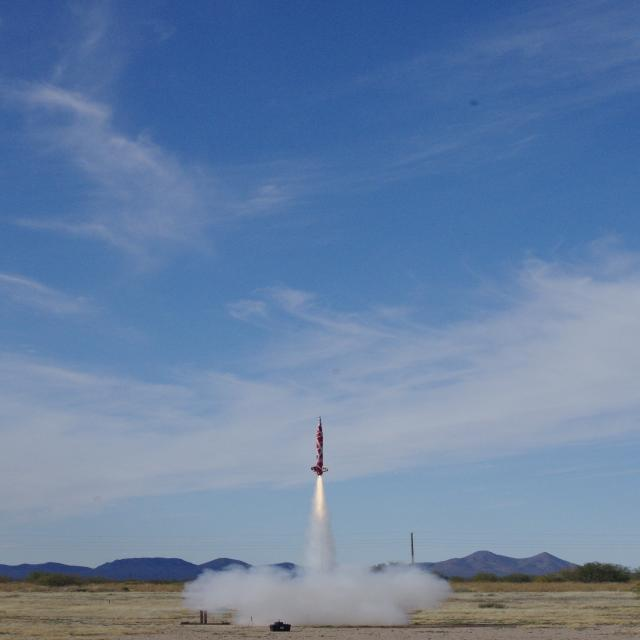Rocket: (310, 416, 329, 476)
